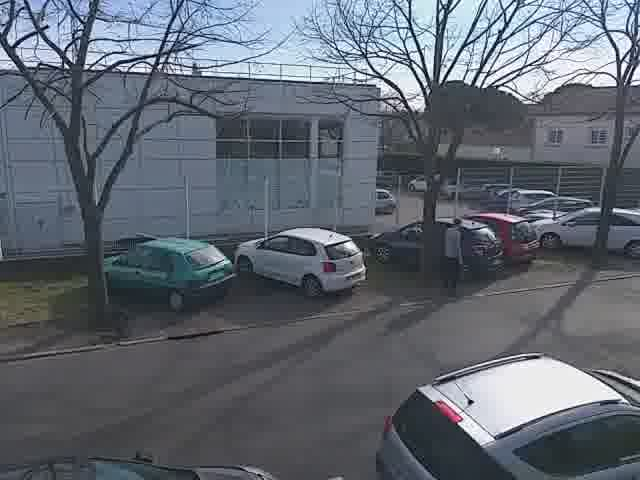persona: (435, 207, 473, 292)
